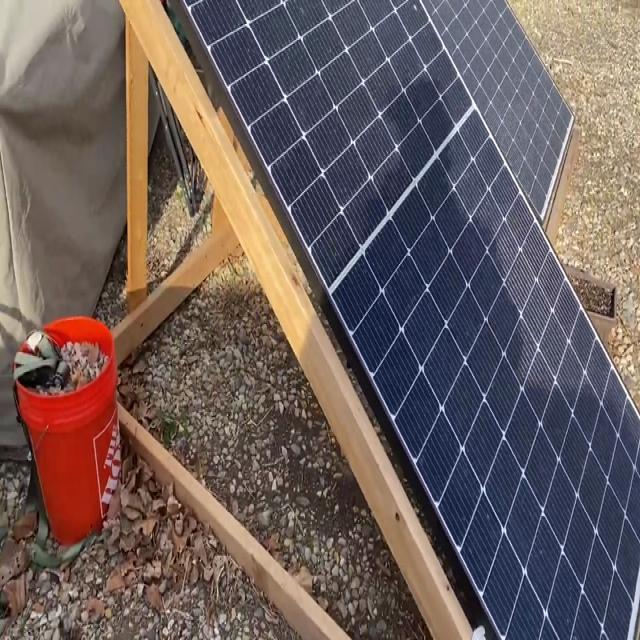Normal Solar Panel: (177, 0, 640, 640), (426, 0, 573, 219)
